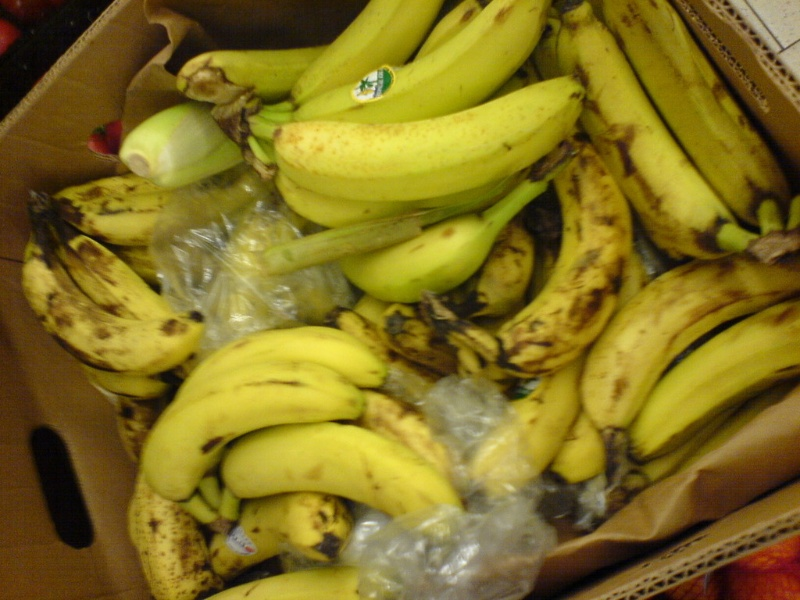banana: (179, 6, 579, 184), (549, 5, 793, 273), (131, 353, 468, 517), (580, 243, 799, 471), (421, 132, 621, 380), (20, 181, 205, 376), (326, 164, 564, 296), (188, 508, 372, 573), (307, 297, 472, 366)
